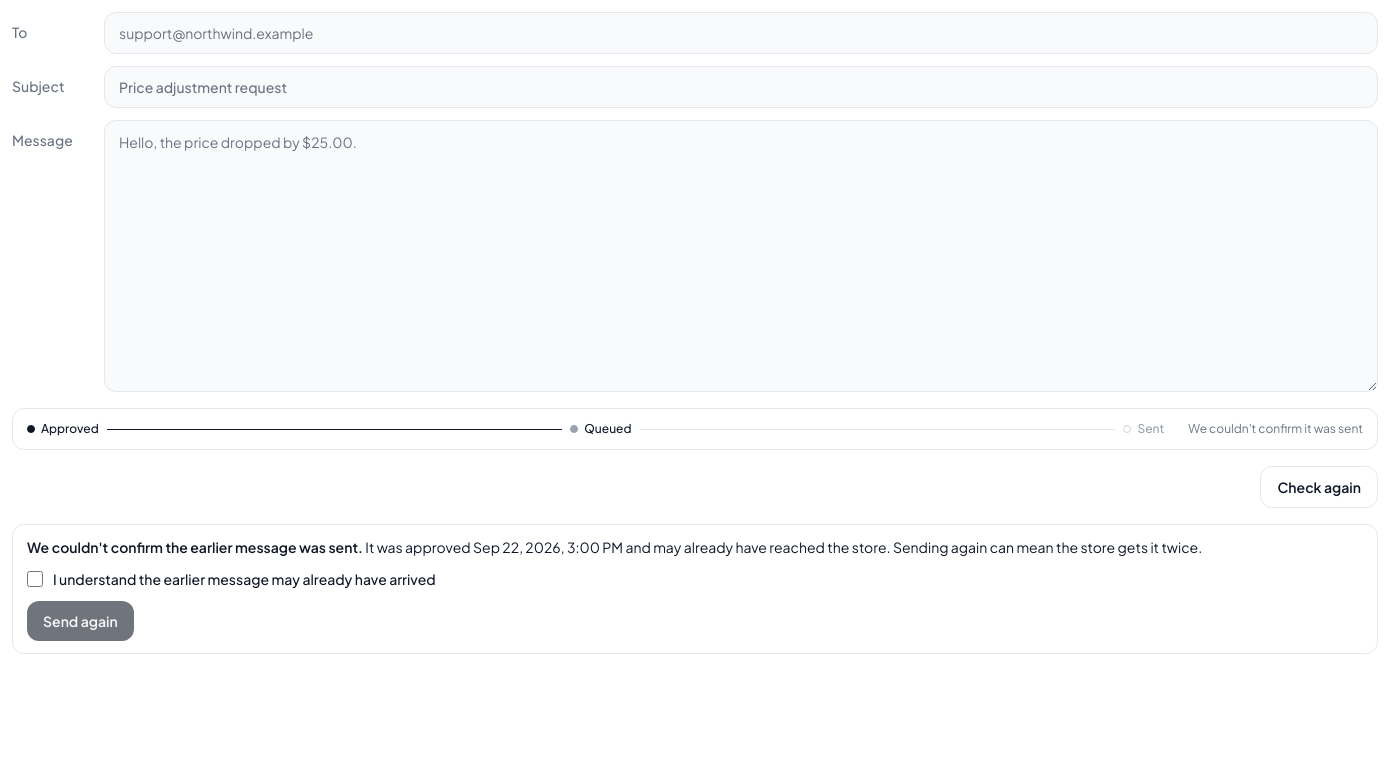
Test case: Composer: after an unknown outcome (S-M03-1, DA-A-31) › an outcome that became known is reported, and nothing is sent
Step 1. Click the checkbox labelled "I understand the earlier message may already have arrived" → point(35, 579), box [27,571,43,587]
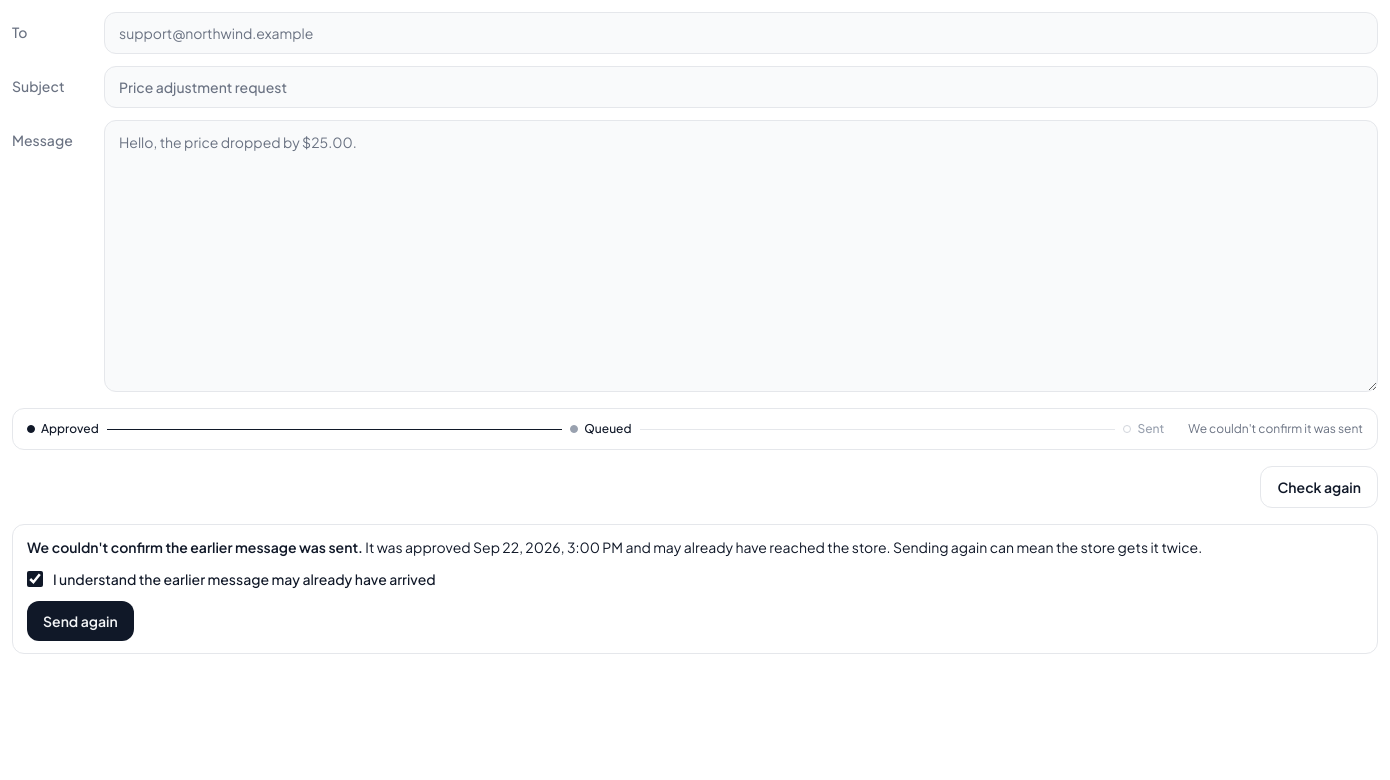
Step 2. Click the button "Send again" → point(80, 621), box [27,601,134,641]
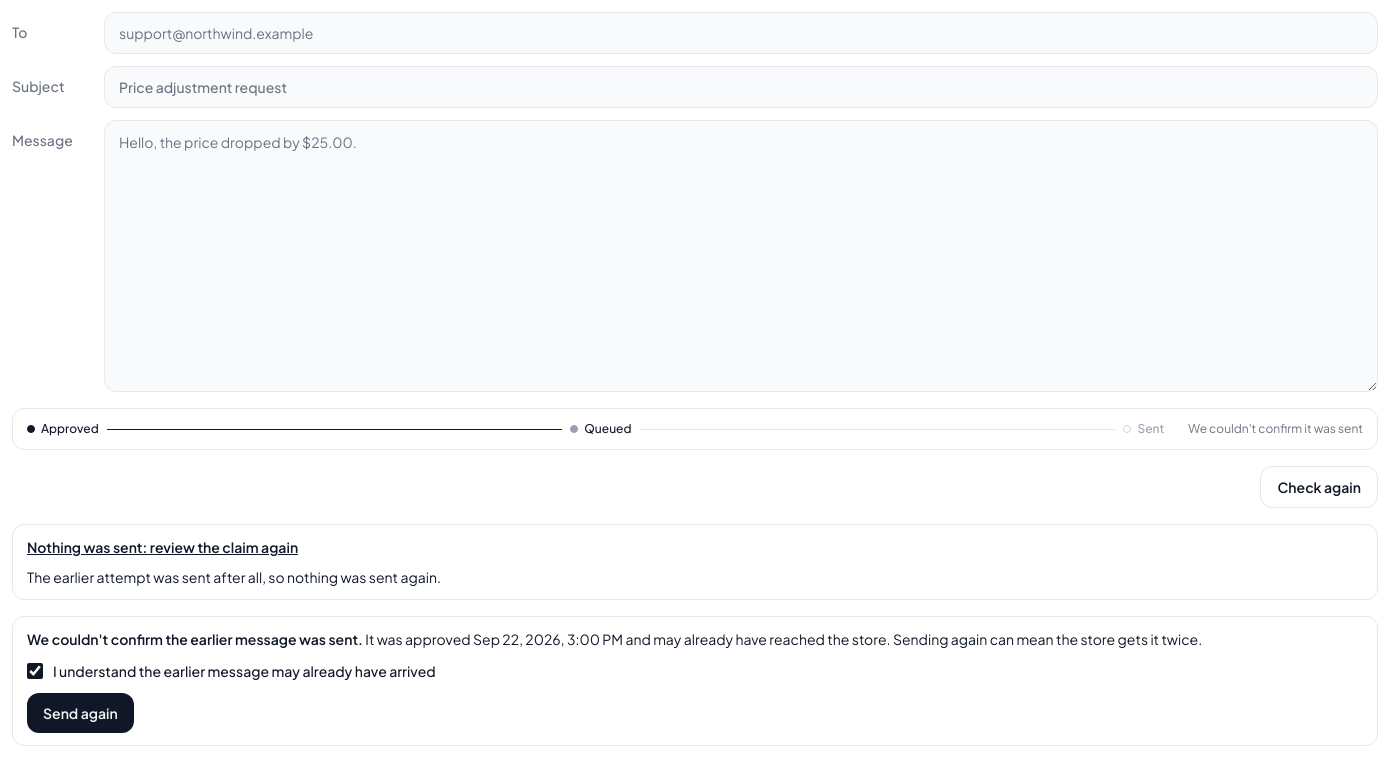
Expected: the element "Nothing was sent: review the claim again" shows "was sent after all", [27,568,441,586]
